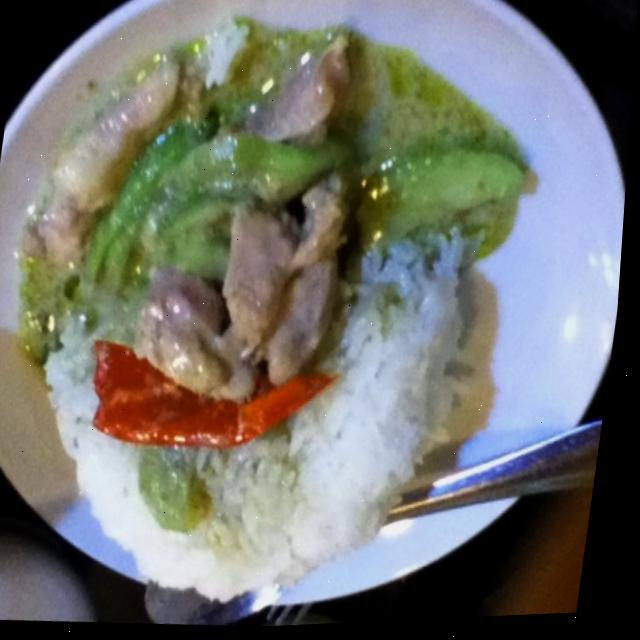汤锅炖物: (104, 578, 187, 629)
熟制海鲜: (0, 364, 190, 594)
